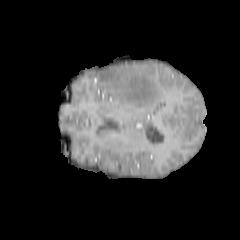glioma: (96, 64, 164, 111)
